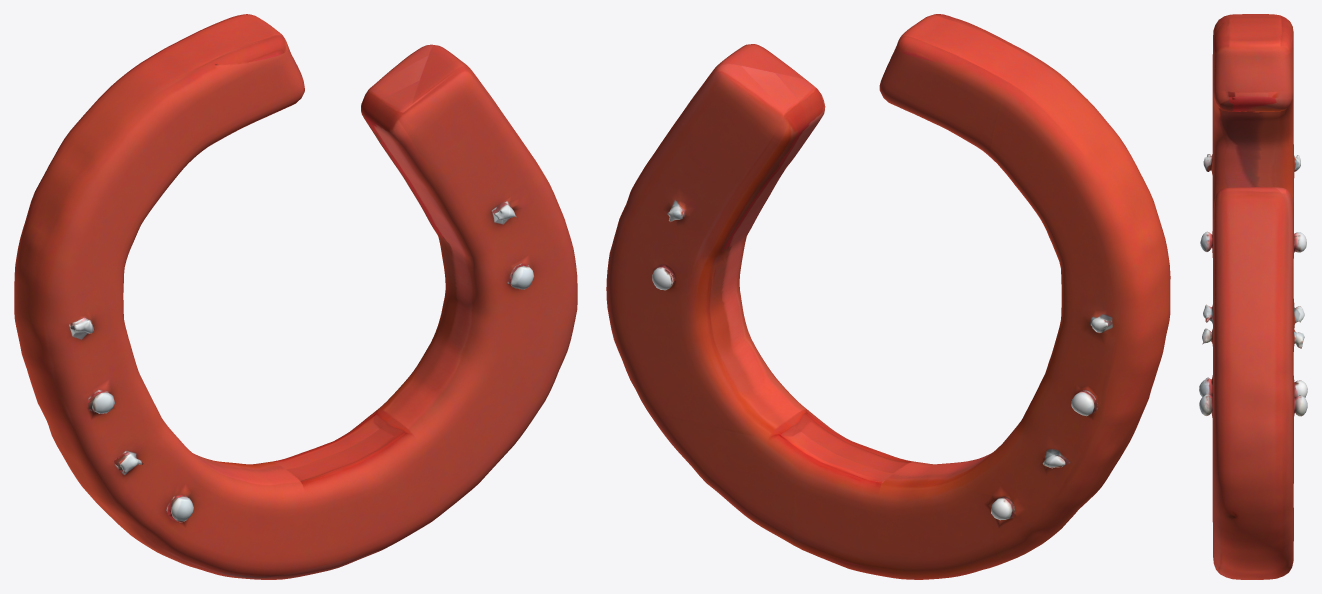
The model's file is create_a_lowpoly_3d_m_0521115848_texture.fbx.
The picture shows the model from 3 angles, left to right: view 1: azimuth 30°, elevation 25°; view 2: azimuth 150°, elevation 25°; view 3: azimuth 270°, elevation 25°; orthographic projection. The views are drawn at different scales.
Visible parts, largest first — view 1: input; view 2: input; view 3: input.
Boxes of the visible parts, x1,y1,x2,y2 form: input: (14,14,577,579); input: (606,14,1170,579); input: (1199,14,1307,579).
Bounding box in the file's own units: 200 × 194 × 38.73.
1 material, 1 textured.
